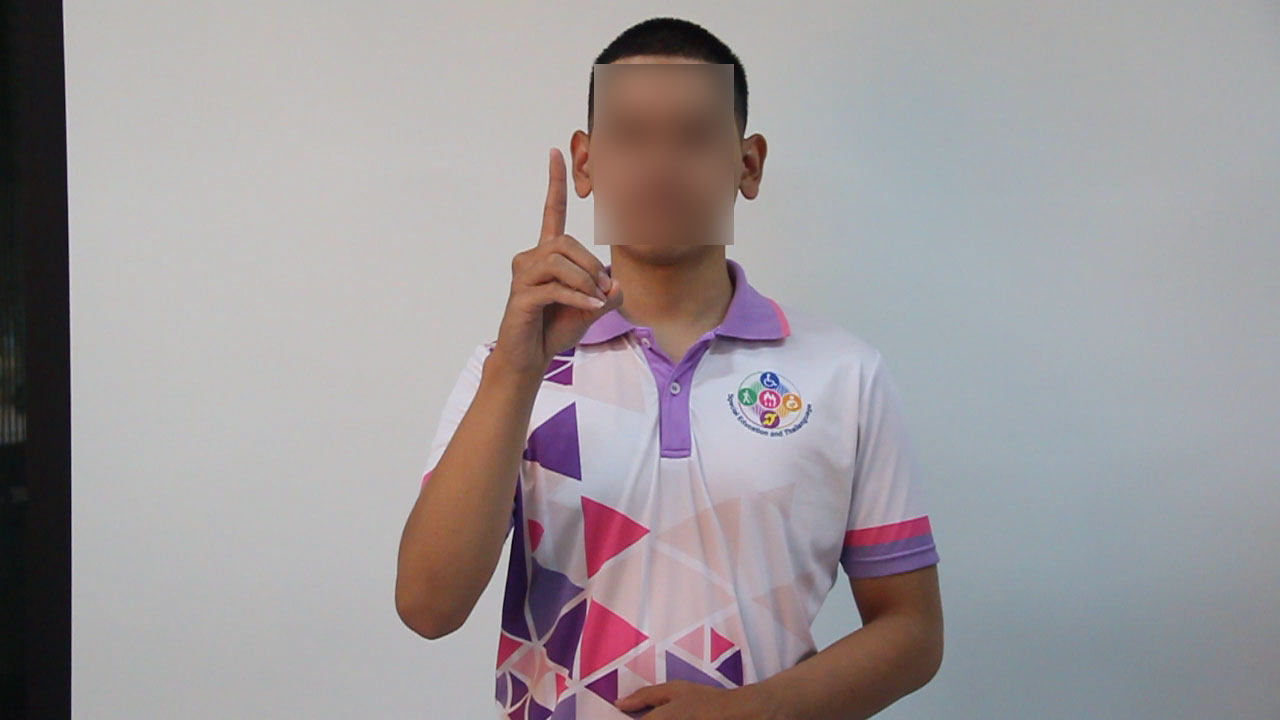dor: (472, 140, 630, 380)
